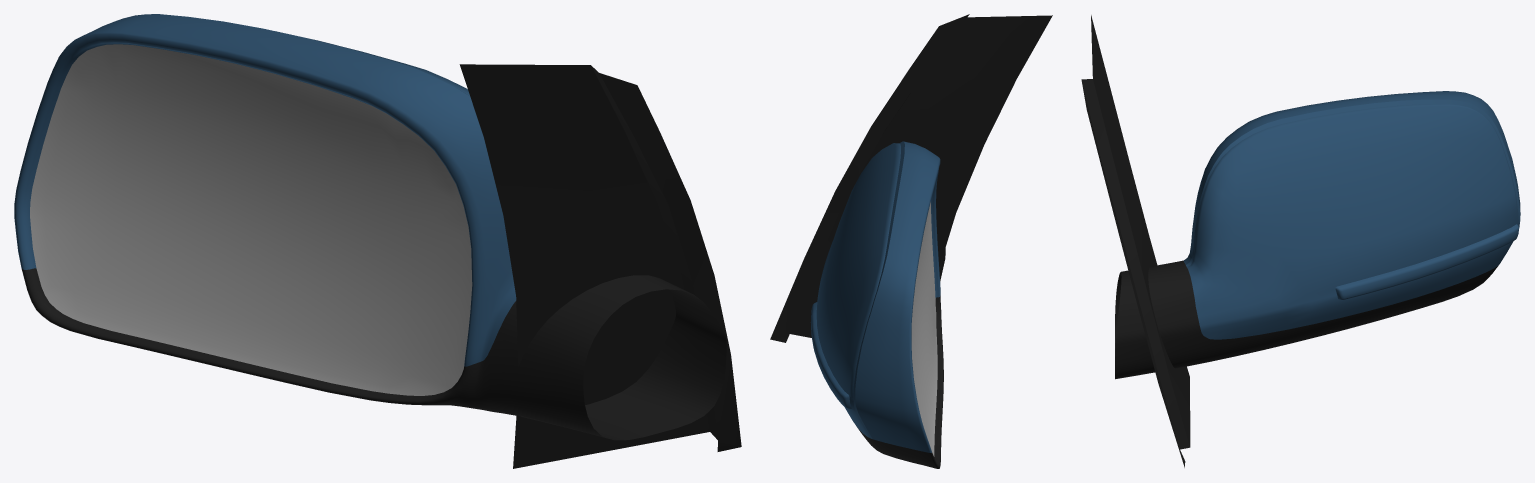
The picture shows the model from 3 angles, left to right: view 1: azimuth 30°, elevation 25°; view 2: azimuth 150°, elevation 25°; view 3: azimuth 270°, elevation 25°; orthographic projection. The views are drawn at different scales.
Visible parts, largest first — view 1: Y191_13_261I_L_2_DTaSI_Y191_13_261I_L, Y191_13_261I_L_Y191_13_261I_L_3_D, Y191_13_261I_L_Y191_13_261I_L_1_DaS; view 2: Y191_13_261I_L_Y191_13_261I_L_1_DaS, Y191_13_261I_L_Y191_13_261I_L_3_D, Y191_13_261I_L_2_DTaSI_Y191_13_261I_L, Y191_13_261I_L_Y191_13_261I_L_1_DaS_E; view 3: Y191_13_261I_L_Y191_13_261I_L_1_DaS, Y191_13_261I_L_Y191_13_261I_L_3_D, Y191_13_261I_L_Y191_13_261I_L_1_DaS_E.
Boxes of the visible parts, box(x1,y1,x2,y2) form: Y191_13_261I_L_2_DTaSI_Y191_13_261I_L: box(30, 44, 472, 395); Y191_13_261I_L_Y191_13_261I_L_3_D: box(21, 64, 741, 468); Y191_13_261I_L_Y191_13_261I_L_1_DaS: box(14, 14, 516, 366); Y191_13_261I_L_Y191_13_261I_L_1_DaS: box(816, 141, 940, 452); Y191_13_261I_L_Y191_13_261I_L_3_D: box(770, 14, 1052, 468); Y191_13_261I_L_2_DTaSI_Y191_13_261I_L: box(911, 202, 937, 456); Y191_13_261I_L_Y191_13_261I_L_1_DaS_E: box(810, 141, 904, 438); Y191_13_261I_L_Y191_13_261I_L_1_DaS: box(1183, 91, 1520, 339); Y191_13_261I_L_Y191_13_261I_L_3_D: box(1081, 15, 1498, 467); Y191_13_261I_L_Y191_13_261I_L_1_DaS_E: box(1186, 99, 1520, 300).
Size of the model in its own units: 21.23 by 21.97 by 25.58.
